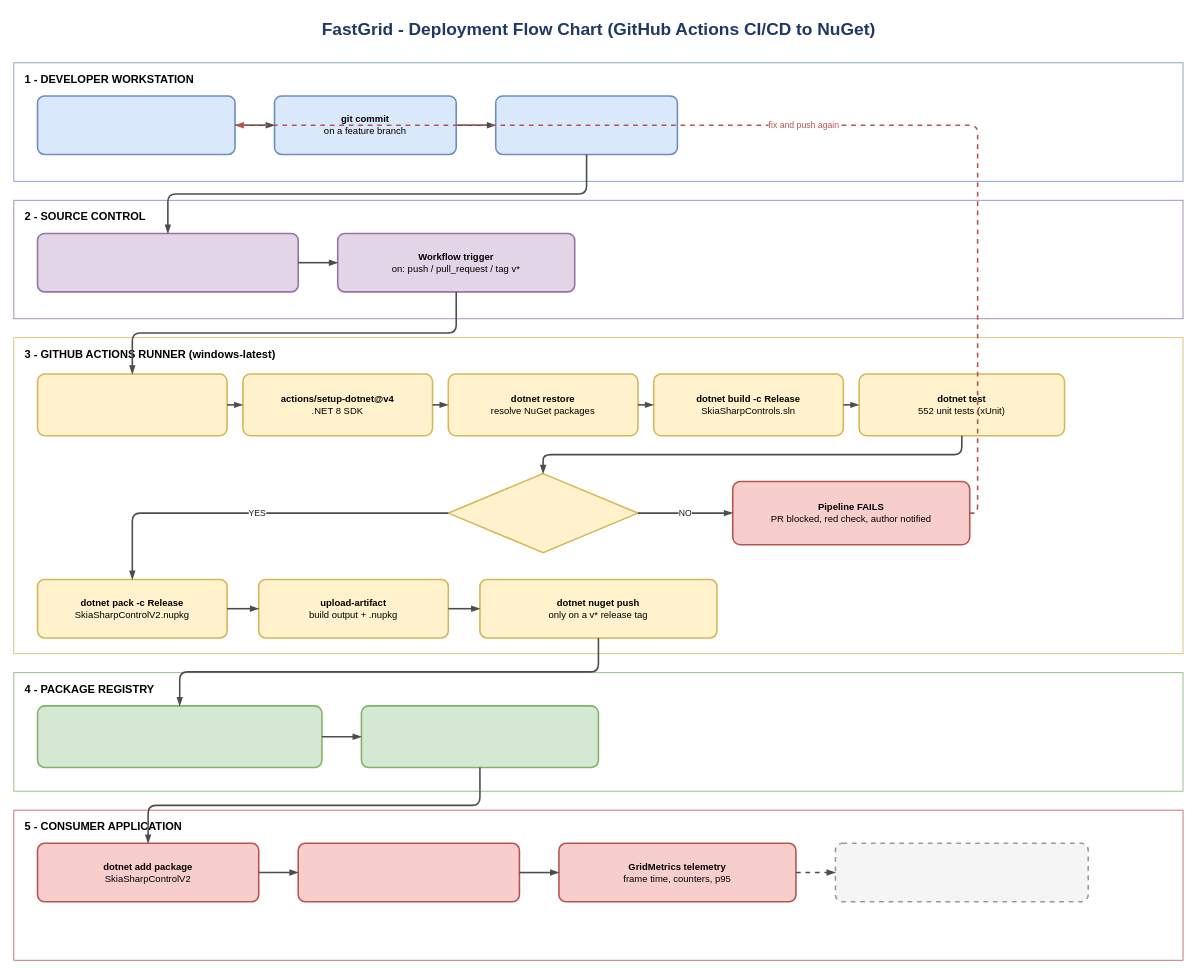
This 1197x974 diagram has some shape labels left out. Each missing label, with the centre of its shape:
actions/checkout@v4 fetch the repository: (x=132, y=404)
All 552 tests pass?: (x=542, y=512)
FYP-II: cloud telemetry endpoint aggregate across sessions: (x=961, y=872)
git push + open Pull Request: (x=586, y=125)
GitHub repository LogicielServices/SkiaGrid: (x=167, y=262)
Host WPF app build + run: (x=408, y=872)
NuGet feed SkiaSharpControlV2 v2.18.0 (MIT): (x=179, y=736)
Versioned release semantic version + release notes: (x=479, y=736)
Visual Studio 2022 edit / build / run tests locally: (x=135, y=125)
